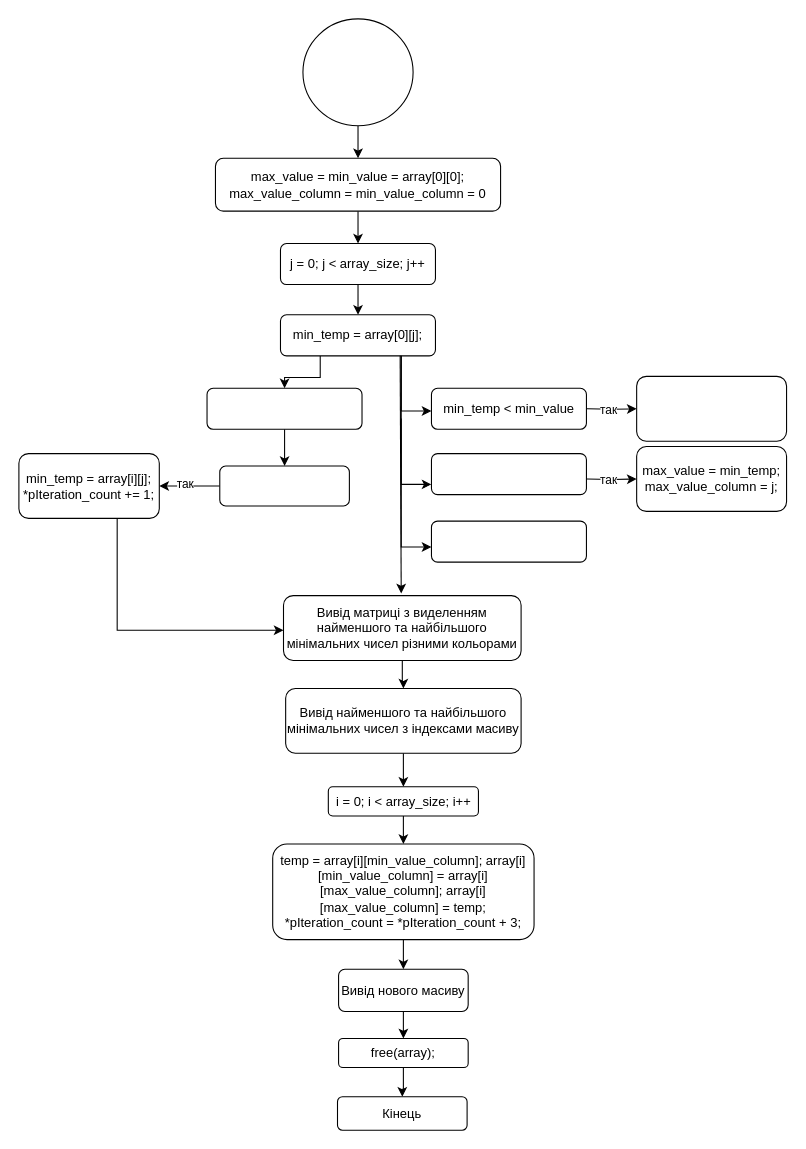
Some shapes in this 806 by 1149 pixel diagram are drawn without their labels. Here are the shapes that lost their labels. From the top down, the centre of each, then its label:
the point at 357,72: Функція виконання першої частини завдання
the point at 284,408: i = 1; i < array_size; i++
the point at 711,408: min_value = min_temp; min_value_column = j;
the point at 284,485: array[i][j] < min_temp
the point at 508,474: min_temp > max_value
the point at 508,541: *pIteration_count += 1;
